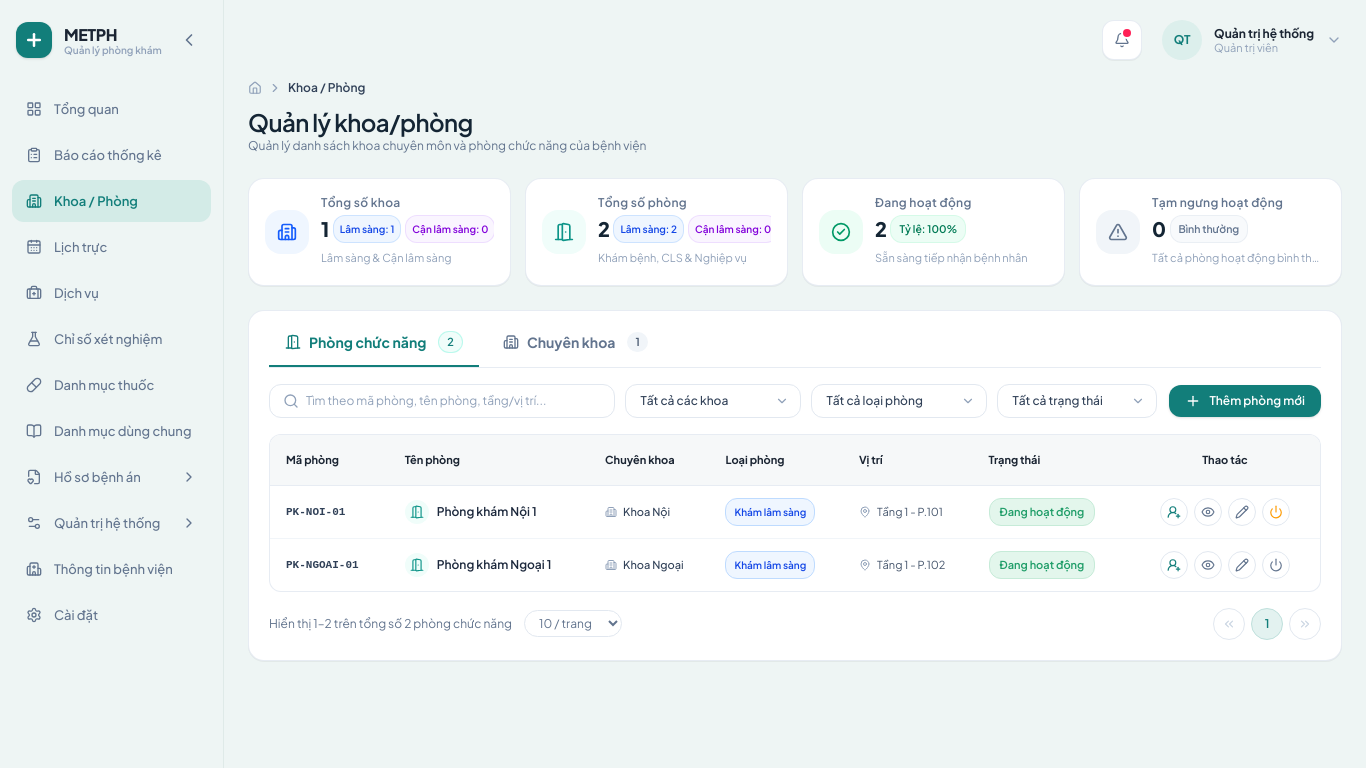
Test case: DepartmentManagementPage - Phòng có bác sĩ trực trong ngày › báo không có nhân sự phù hợp khi không có bác sĩ đang hoạt động
Expected: the text "Phòng khám Ngoại 1" is shown, [437,557,552,573]
Click the button named "Phân phòng Phòng khám Ngoại 1": point(1174, 565) [1160,551,1188,579]
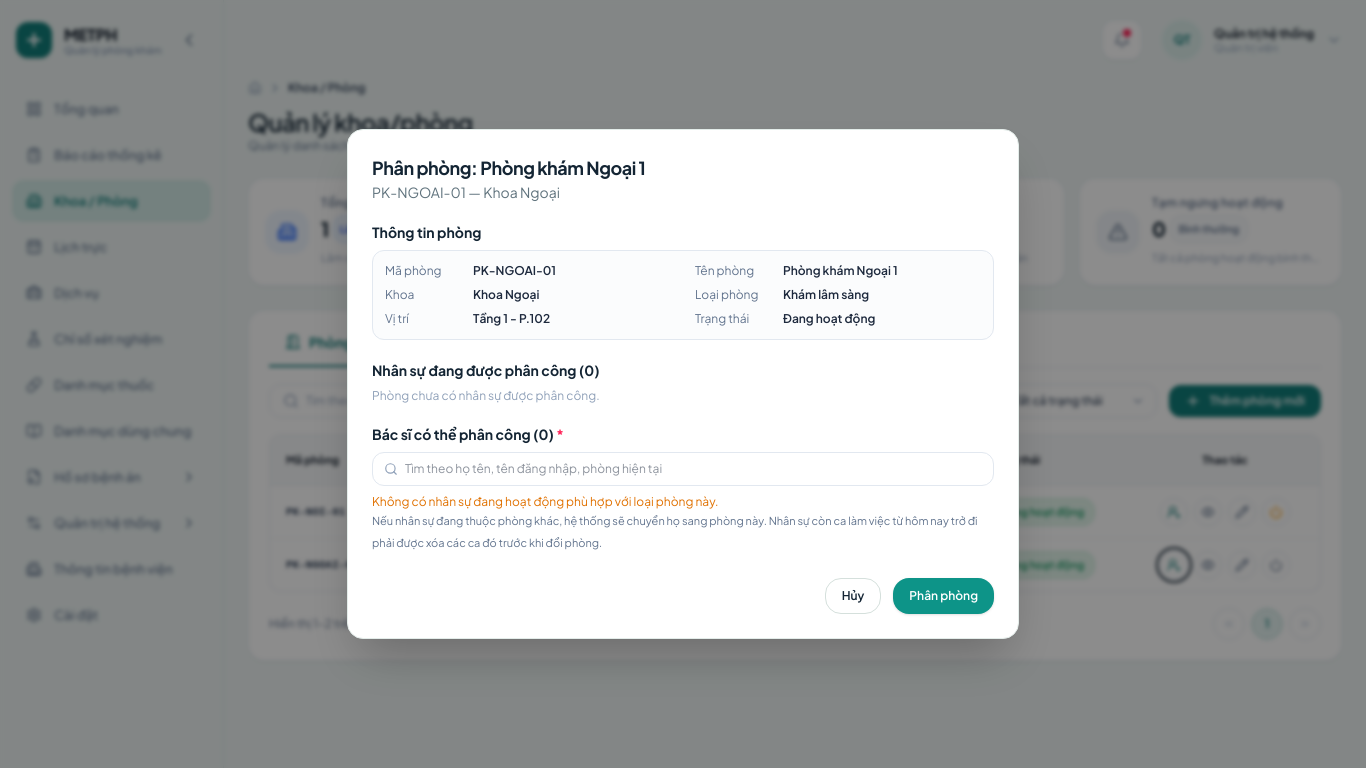
Expected: the text "Không có nhân sự đang hoạt động phù hợp với loại phòng này." is shown, [372,494,718,509]
Click the button "Hủy": point(853, 596) [825,578,881,614]
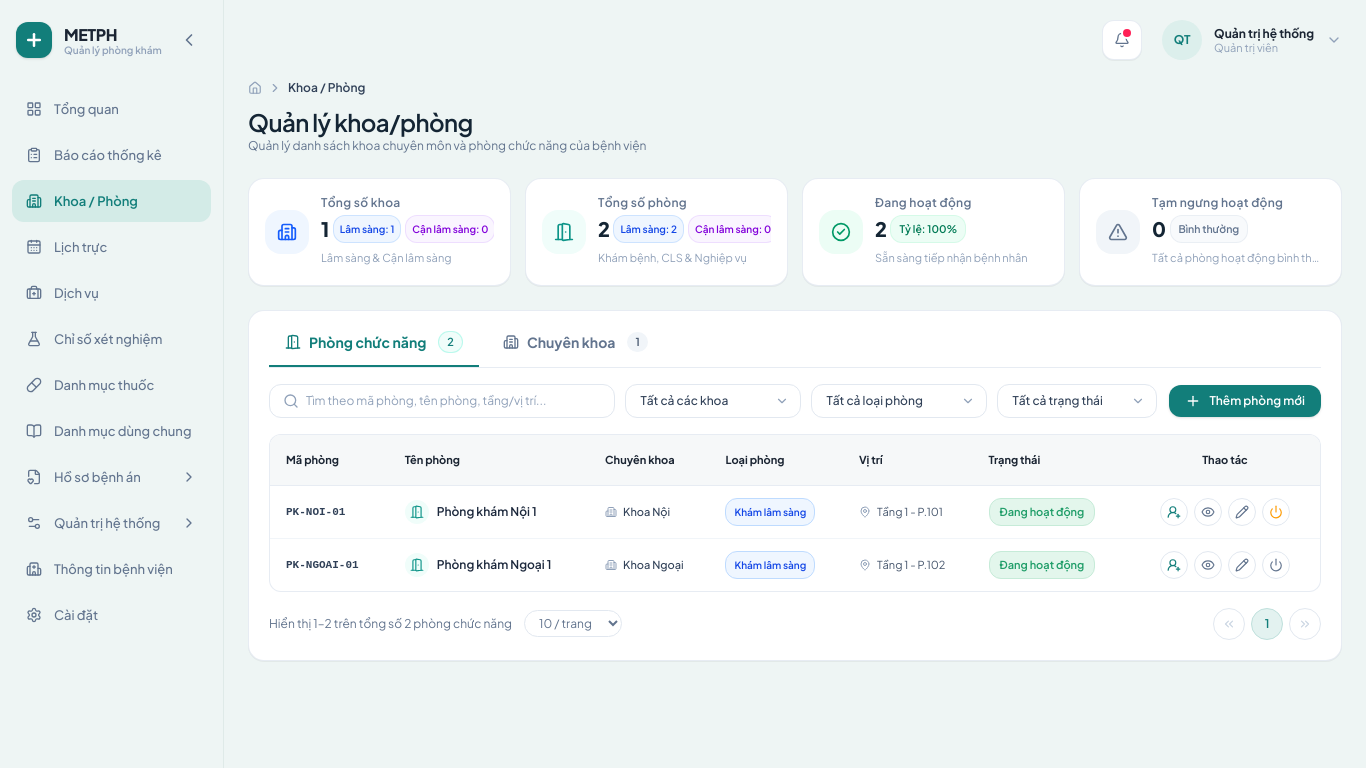
Expected: the dialog is gone
